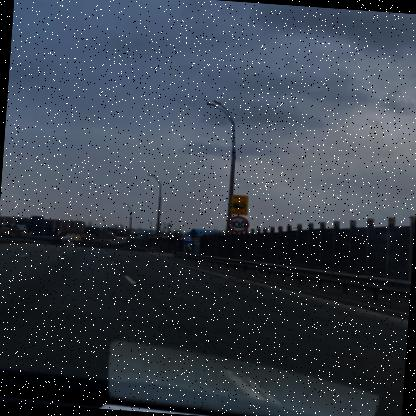speedlimit: (226, 215, 249, 232)
